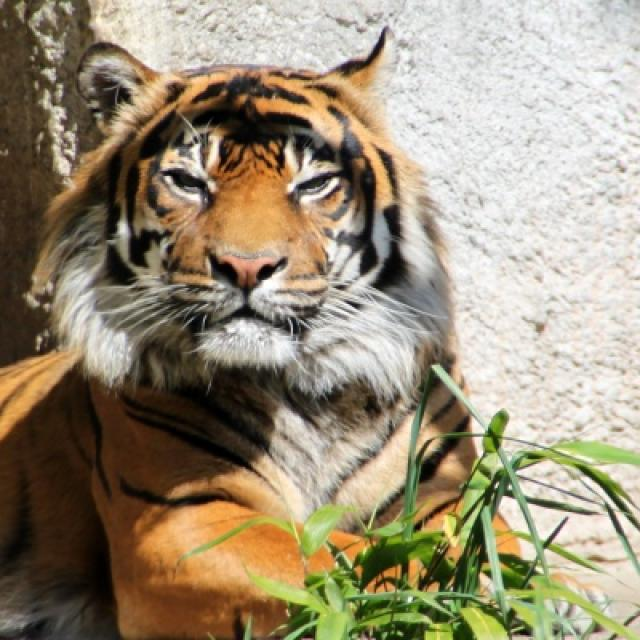Tiger: (6, 31, 473, 638)
